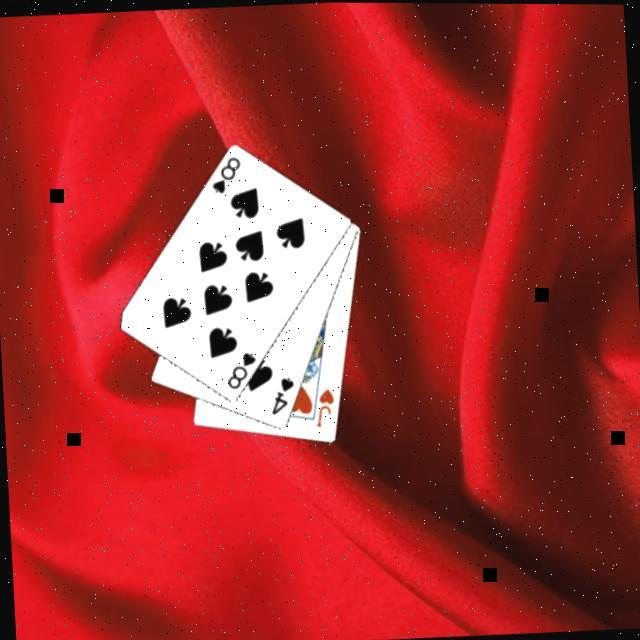4S: (266, 374, 298, 419)
8S: (222, 349, 260, 393), (207, 154, 244, 198)
JH: (311, 386, 338, 431)
